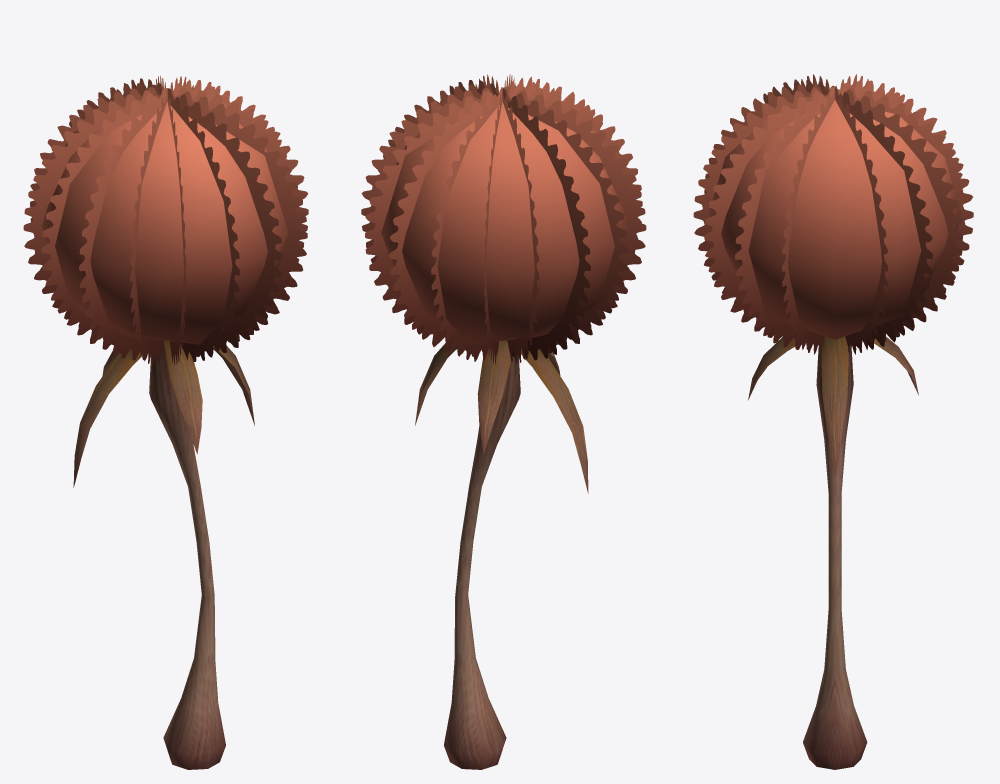
Rendered from Plants01.FBX.
3 renders of one model, left to right at view 1: azimuth 30°, elevation 25°; view 2: azimuth 150°, elevation 25°; view 3: azimuth 270°, elevation 25°, orthographic. The views are drawn at different scales.
Visible parts, largest first — view 1: Plants01; view 2: Plants01; view 3: Plants01.
Boxes of the visible parts, bbox=[...] form: Plants01: bbox=[23, 76, 308, 769]; Plants01: bbox=[361, 74, 646, 769]; Plants01: bbox=[693, 74, 973, 769].
Bounding box in the file's own units: 66.82 × 164 × 66.82.
